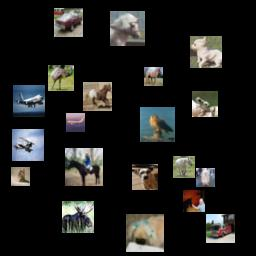airplane: (13, 85, 45, 117), (12, 129, 44, 161), (66, 113, 85, 132)
automobile: (54, 8, 83, 37)
bird: (140, 107, 175, 142), (48, 65, 74, 91)
cat: (11, 167, 30, 186)
deer: (62, 201, 94, 233)
dog: (126, 214, 164, 252), (190, 36, 222, 68), (132, 164, 158, 190), (196, 168, 215, 187)
frog: (192, 91, 218, 117)
truck: (206, 214, 235, 243)
